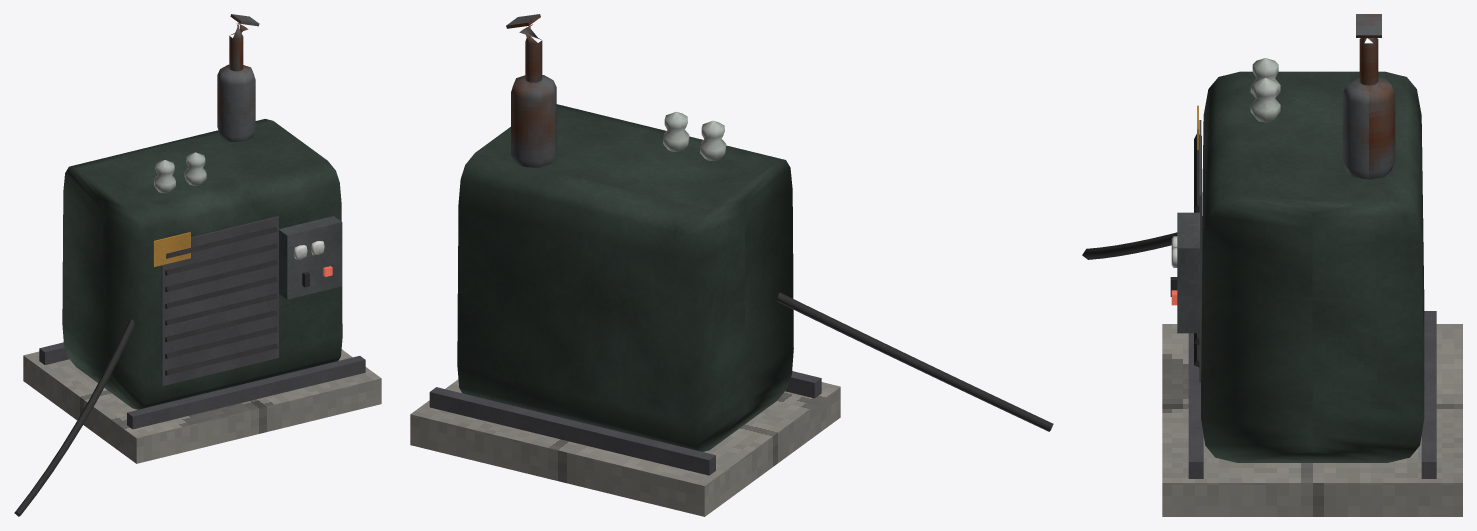
Rendered from ext_generator.glb.
3 renders of one model, left to right at view 1: azimuth 30°, elevation 25°; view 2: azimuth 150°, elevation 25°; view 3: azimuth 270°, elevation 25°, orthographic. The views are drawn at different scales.
Visible parts, largest first — view 1: box-col, detail; view 2: box-col, detail; view 3: box-col, detail.
Boxes of the visible parts, <box> form: box-col: <box>23,119,381,463</box>; detail: <box>14,14,365,516</box>; box-col: <box>410,104,840,516</box>; detail: <box>429,14,1053,475</box>; box-col: <box>1162,71,1462,516</box>; detail: <box>1082,14,1436,478</box>.
Size of what is drawn, in the model's own units: 3.21 by 2.7 by 2.03.
Materials: 10 (10 with a texture image).
